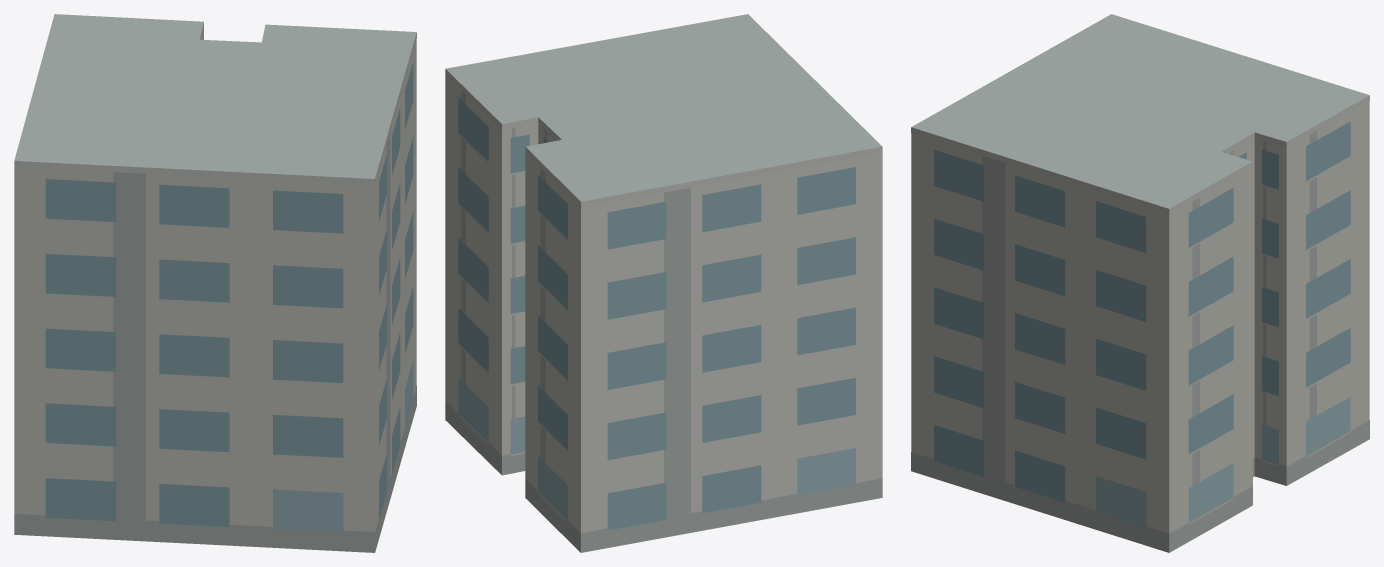
The model's file is survey-upis-32924037.glb.
3 views of the same model, side by side, from view 1: azimuth 30°, elevation 25°; view 2: azimuth 150°, elevation 25°; view 3: azimuth 270°, elevation 25° (orthographic). The views are drawn at different scales.
Visible parts, largest first — view 1: survey-upis-32924037.tmp; view 2: survey-upis-32924037.tmp; view 3: survey-upis-32924037.tmp.
Boxes of the visible parts, left/top/right/bottom form: survey-upis-32924037.tmp: left=14, top=14, right=416, bottom=552; survey-upis-32924037.tmp: left=445, top=14, right=882, bottom=552; survey-upis-32924037.tmp: left=911, top=14, right=1369, bottom=552.
Size of the model in its own units: 17.38 by 14.3 by 17.29.
